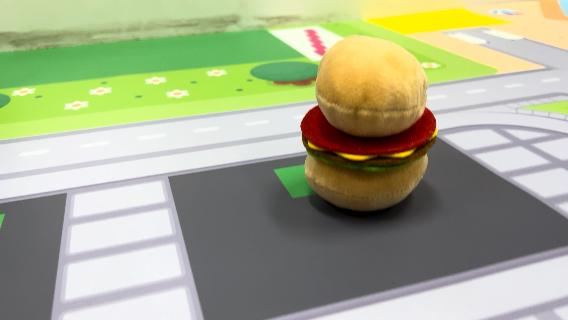burger: (296, 32, 441, 214)
